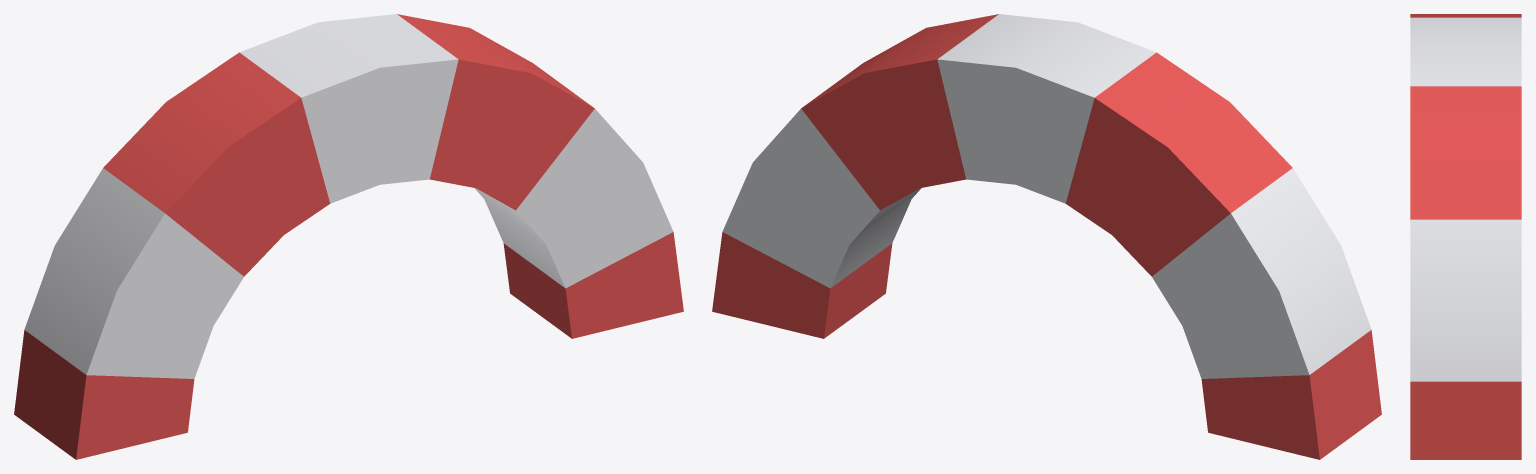
Rendered from overheadRoundColored.obj.
The picture shows the model from 3 angles, left to right: view 1: azimuth 30°, elevation 25°; view 2: azimuth 150°, elevation 25°; view 3: azimuth 270°, elevation 25°; orthographic projection. The views are drawn at different scales.
Parts seen in each view (by area): view 1: overheadRoundColored; view 2: overheadRoundColored; view 3: overheadRoundColored.
Boxes of the visible parts, x1,y1,x2,y2 form: overheadRoundColored: (14, 14, 683, 459); overheadRoundColored: (712, 14, 1381, 459); overheadRoundColored: (1410, 14, 1521, 459).
Size of the model in its own units: 1.87 by 0.9334 by 0.33.
